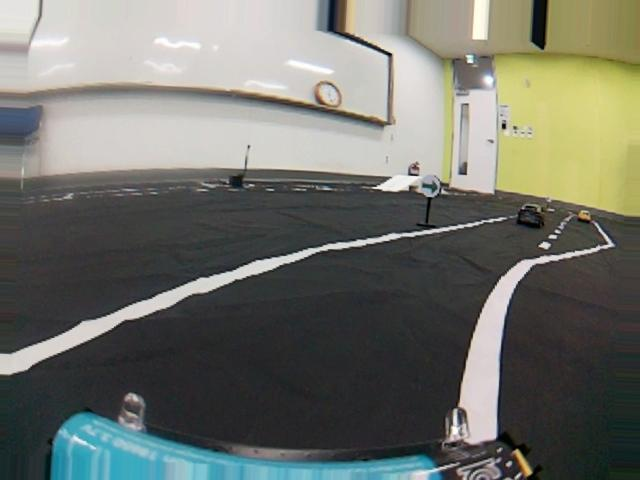car: (516, 195, 548, 232), (571, 204, 601, 226)
sign_right: (414, 170, 444, 199)
straight: (0, 270, 546, 480)
